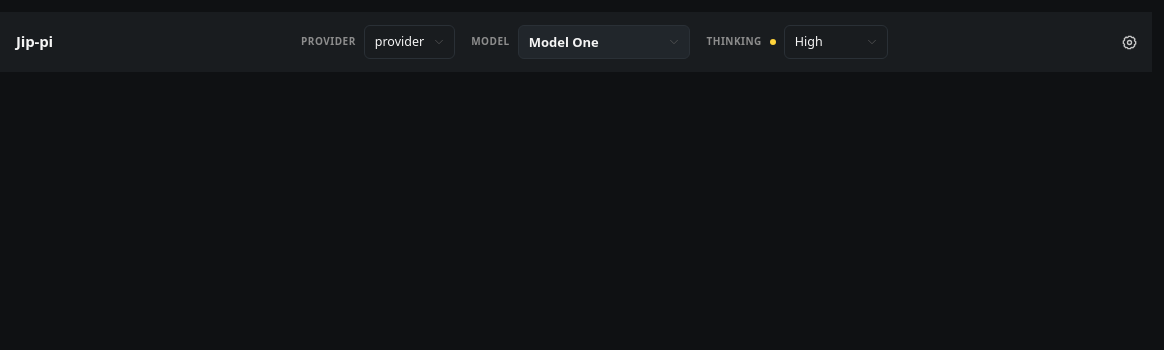
it: TopBar › thinking panel shows the full level matrix with unsupported levels disabled
Click the button with test id "thinking-select".
click(836, 42)  # box [784,25,888,59]
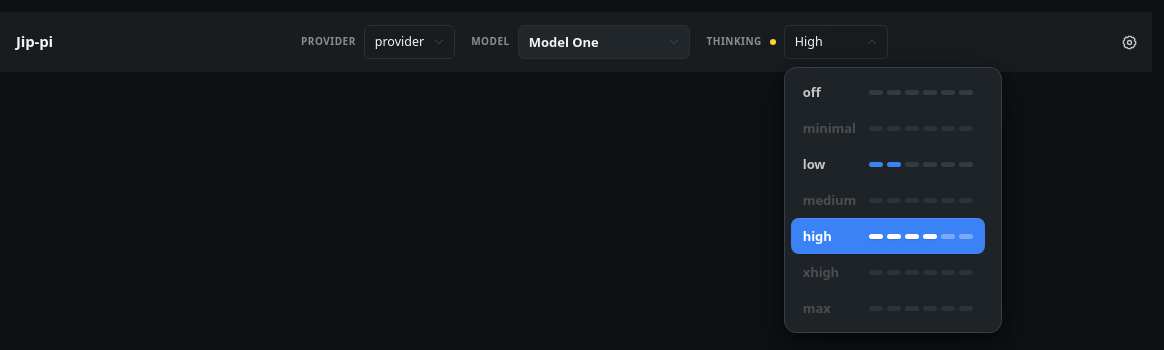
Expected: the number of options is 7
Expected: the option with test id "thinking-select-option-max" is disabled, [791,290,985,326]
Expected: the option with test id "thinking-select-option-high" is enabled, [791,218,985,254]
